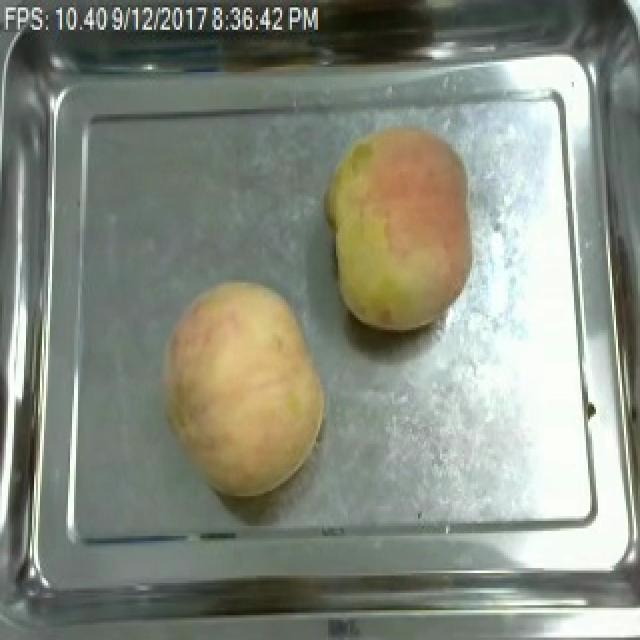Fruit: (152, 273, 334, 501), (320, 114, 482, 337)
